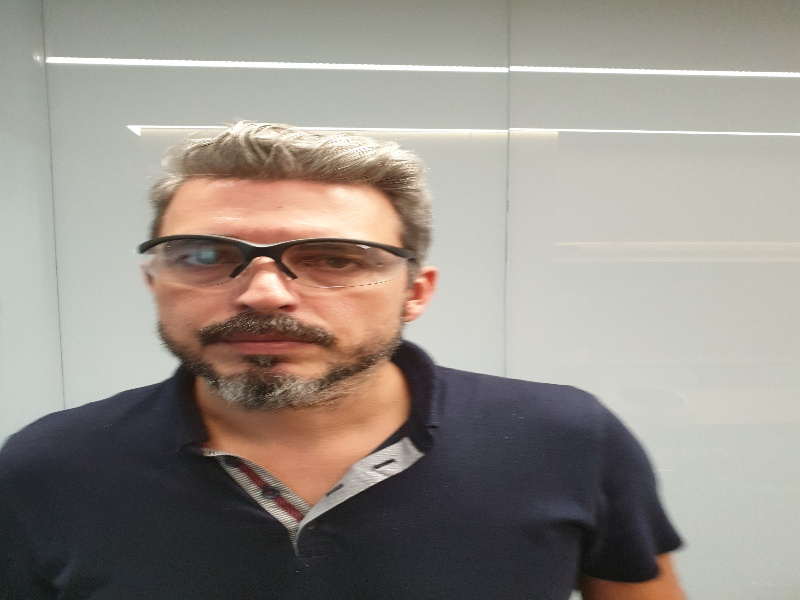Gozluk: (135, 233, 414, 292)
